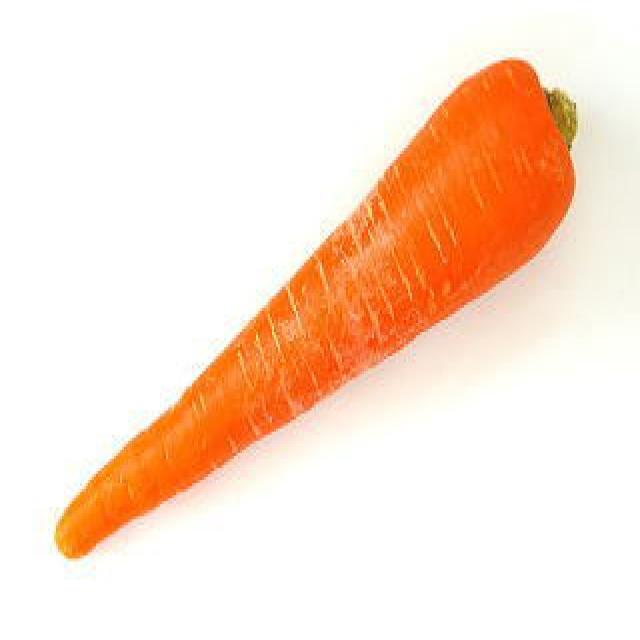Carrot: (55, 53, 586, 562)
